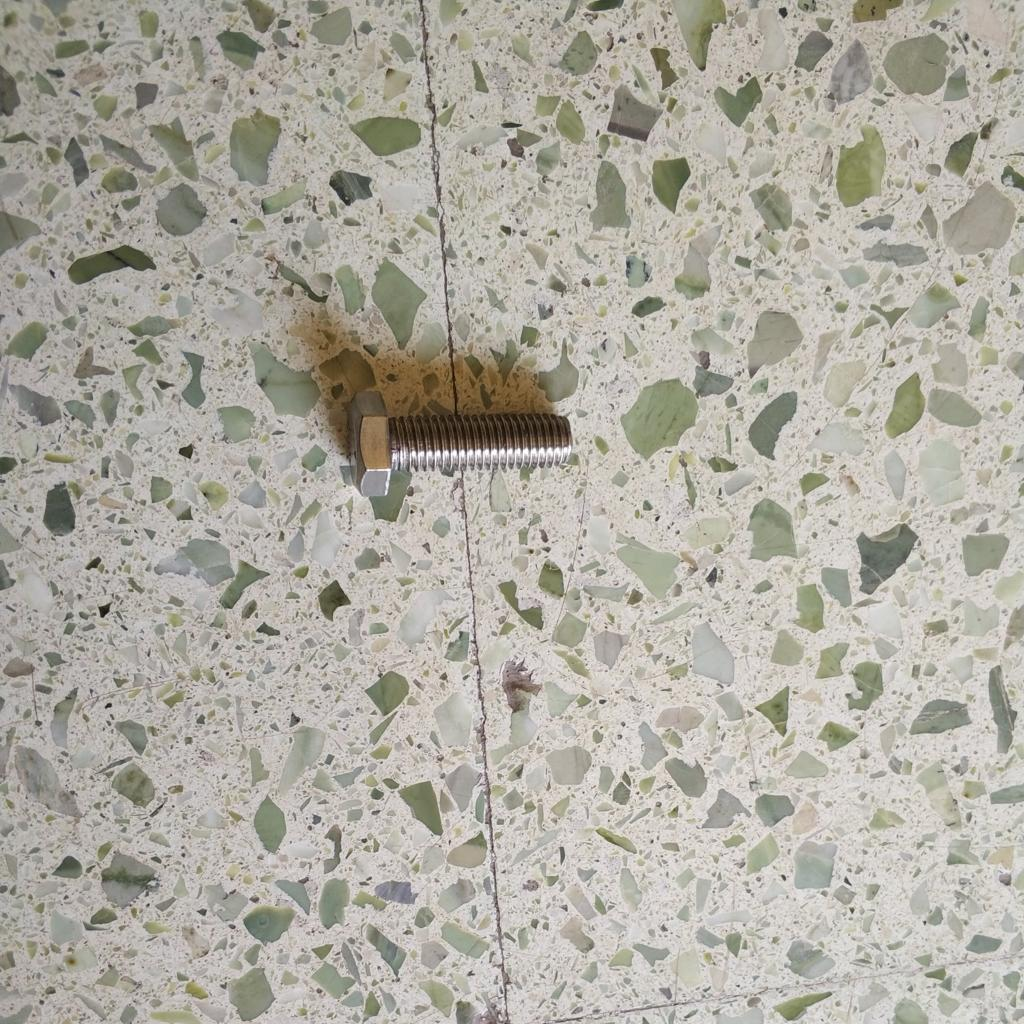screwtype2silver: (344, 380, 579, 507)
